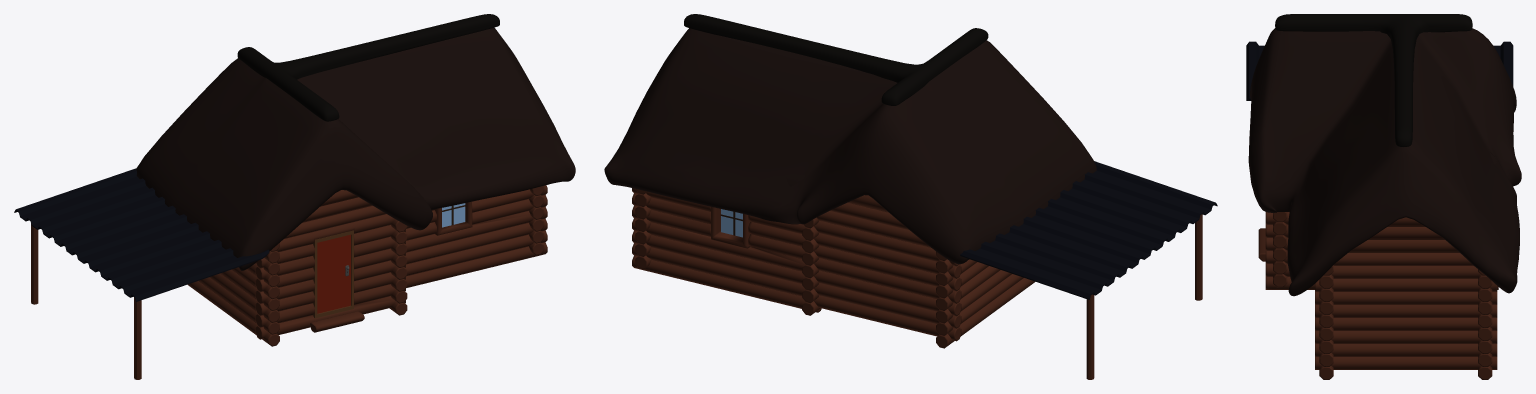
File: Mesh_Log_Cabin_005_Tex.fbx
3 renders of one model, left to right at view 1: azimuth 30°, elevation 25°; view 2: azimuth 150°, elevation 25°; view 3: azimuth 270°, elevation 25°, orthographic. The views are drawn at different scales.
Visible parts, largest first — view 1: Mesh_Thatch_Roof (×2), Mesh_Structure_Cabin, Mesh_Roof._Tin, Mesh_Door, Mesh_Door_Frame, Window_Frame; view 2: Mesh_Thatch_Roof (×2), Mesh_Structure_Cabin, Mesh_Roof._Tin, Window_Frame.002; view 3: Mesh_Thatch_Roof (×2), Mesh_Structure_Cabin, Mesh_Roof._Tin.
Boxes of the visible parts, left/top/right/bottom form: Mesh_Thatch_Roof (×2): left=136, top=14, right=575, bottom=270; Mesh_Structure_Cabin: left=31, top=185, right=547, bottom=379; Mesh_Roof._Tin: left=14, top=168, right=269, bottom=301; Mesh_Door: left=317, top=234, right=350, bottom=313; Mesh_Door_Frame: left=311, top=230, right=353, bottom=318; Window_Frame: left=435, top=201, right=472, bottom=235; Mesh_Thatch_Roof (×2): left=604, top=14, right=1096, bottom=264; Mesh_Structure_Cabin: left=632, top=188, right=1202, bottom=379; Mesh_Roof._Tin: left=960, top=161, right=1217, bottom=299; Window_Frame.002: left=711, top=206, right=750, bottom=248; Mesh_Thatch_Roof (×2): left=1248, top=14, right=1521, bottom=296; Mesh_Structure_Cabin: left=1258, top=212, right=1498, bottom=379; Mesh_Roof._Tin: left=1246, top=41, right=1513, bottom=100.
Bounding box in the file's own units: 4540 × 2052 × 2137.
